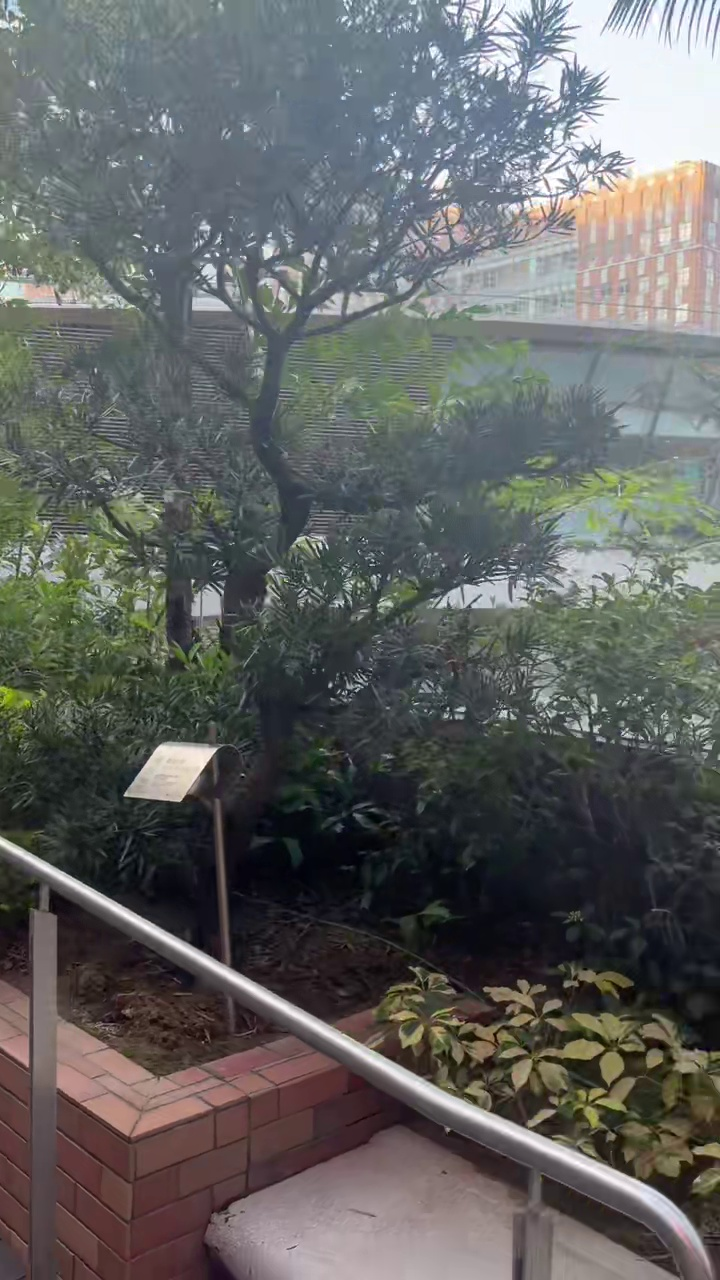Podocarpus macrophyllus: (1, 0, 618, 843)
